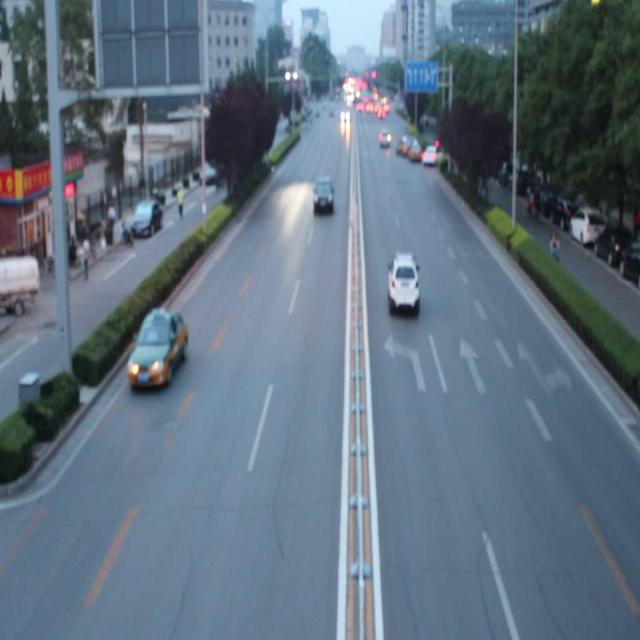car: (127, 304, 190, 392), (386, 248, 421, 318), (311, 174, 335, 218)
